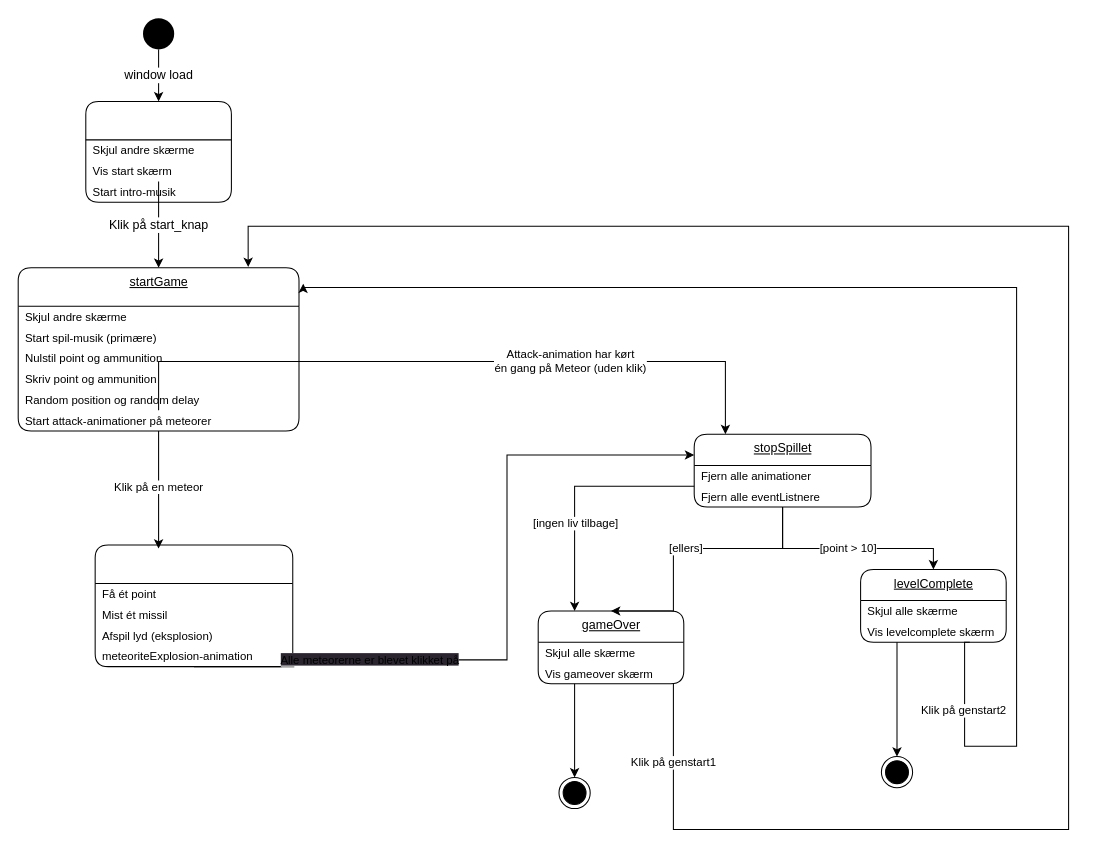
Image size: 1095x856. Some labels were removed from this diagram. The box of each missing label's shape, as (x1, y1, x2, y2) in pixels:
clickMeteorite: (94, 544, 293, 667)
showTitle: (85, 100, 231, 202)
